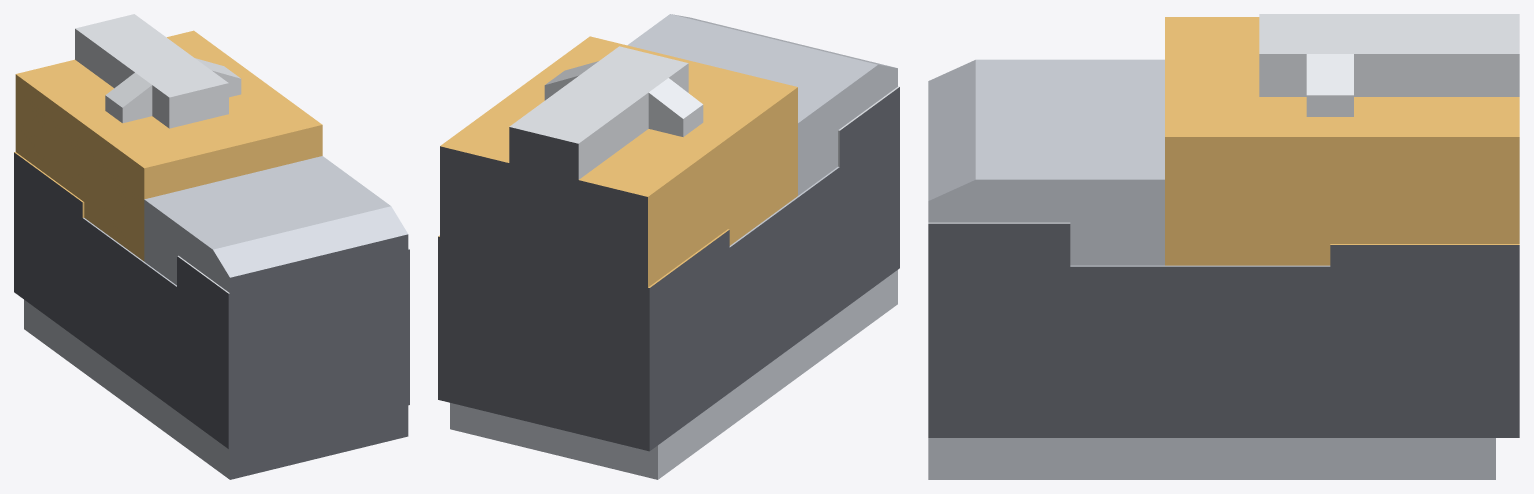
File: fuselage.glb
3 views of the same model, side by side, from view 1: azimuth 30°, elevation 25°; view 2: azimuth 150°, elevation 25°; view 3: azimuth 270°, elevation 25° (orthographic). The views are drawn at different scales.
Bounding box in the file's own units: 1.22 × 1.8 × 2.5.
